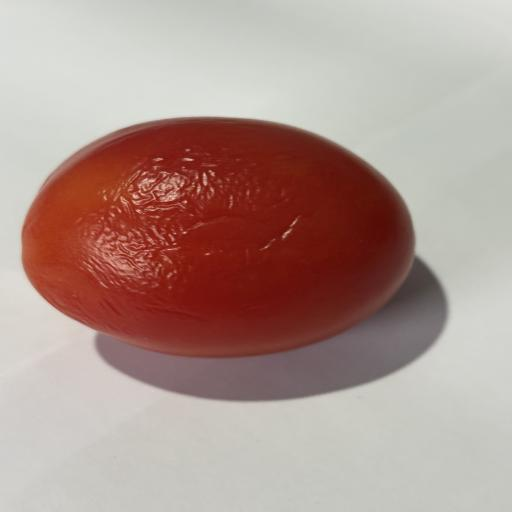spoiled: (23, 117, 414, 357)
